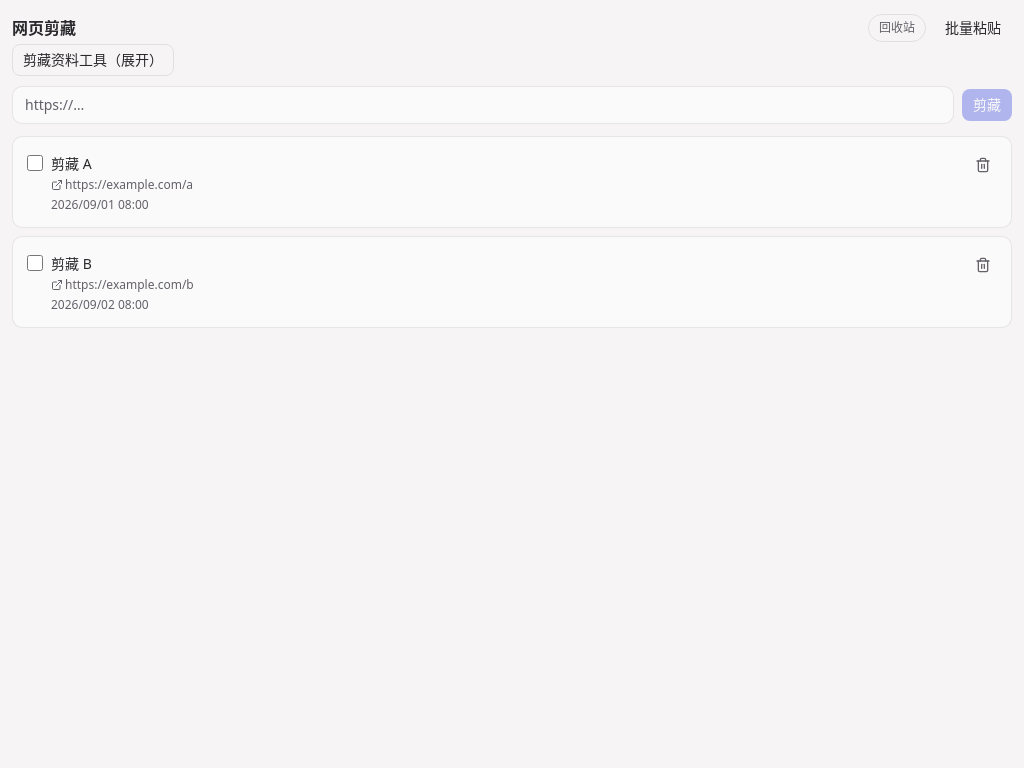
F081/F087 ClipsPage 多选批量操作 › F081: 勾选两条→批量编辑→预览请求携带两条 clip ref
The image size is (1024, 768).
Check: the button "剪藏 A" is shown, box [51, 154, 92, 174]
Click the checkbox named "选择剪藏：剪藏 A" at (35, 163), box [27, 155, 43, 171]
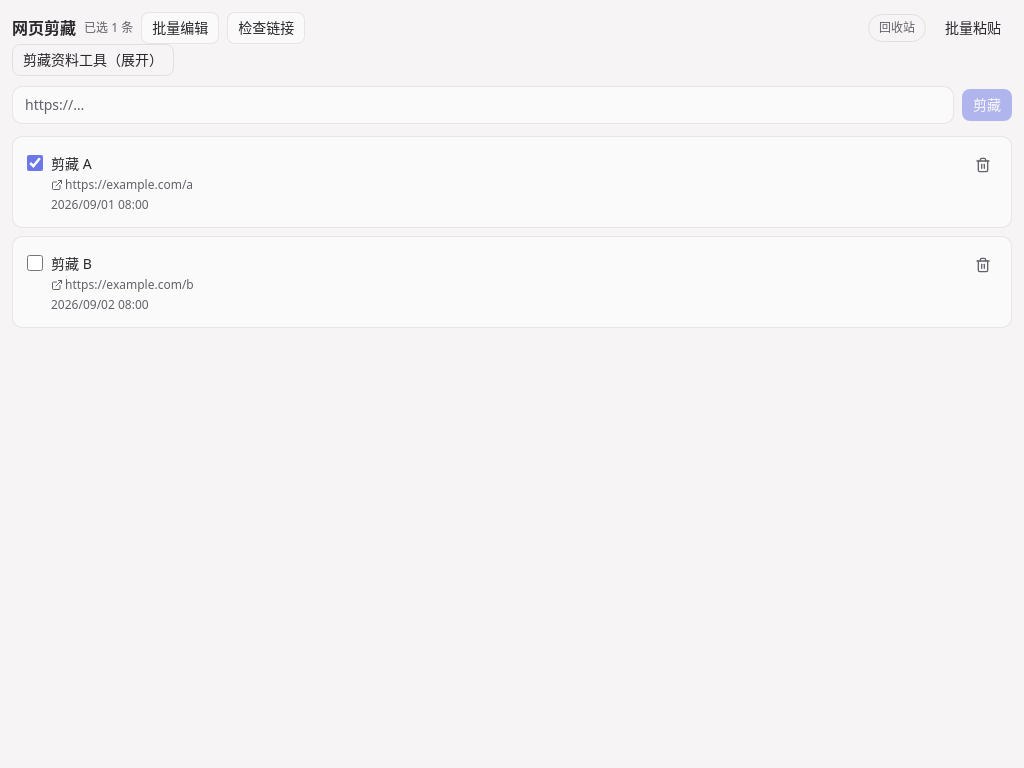
Click the checkbox named "选择剪藏：剪藏 B" at (35, 263), box [27, 255, 43, 271]
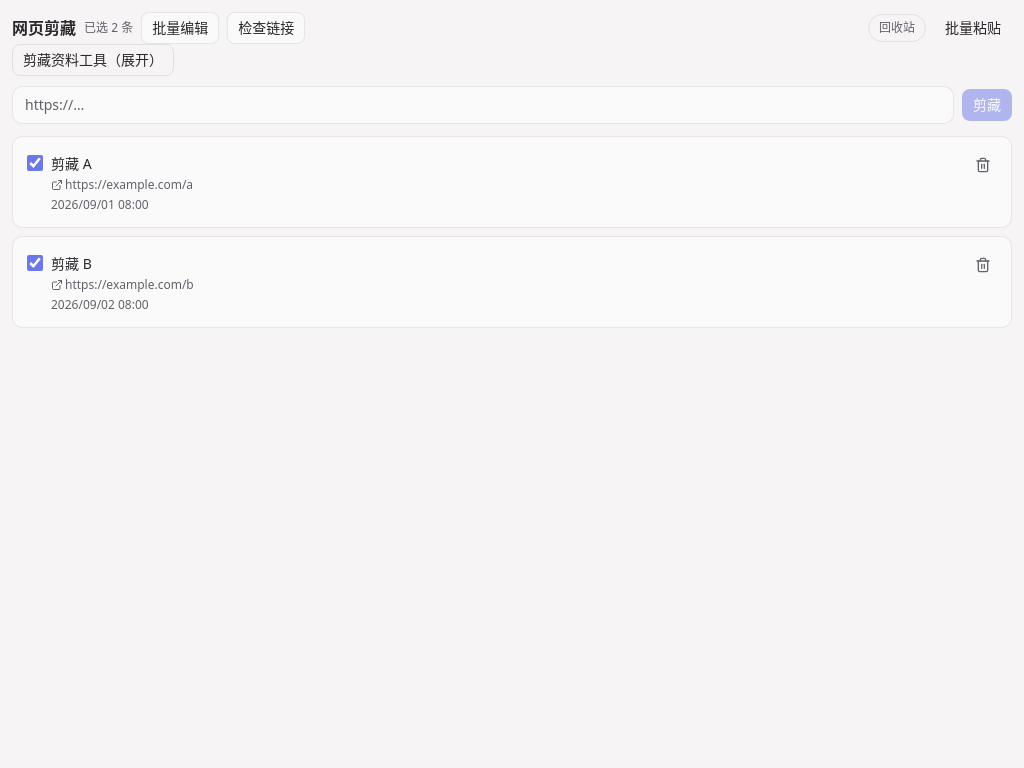
Check: the text "已选 2 条" is shown, box [84, 20, 133, 36]
Click the button "批量编辑" at (180, 28), box [141, 12, 219, 44]
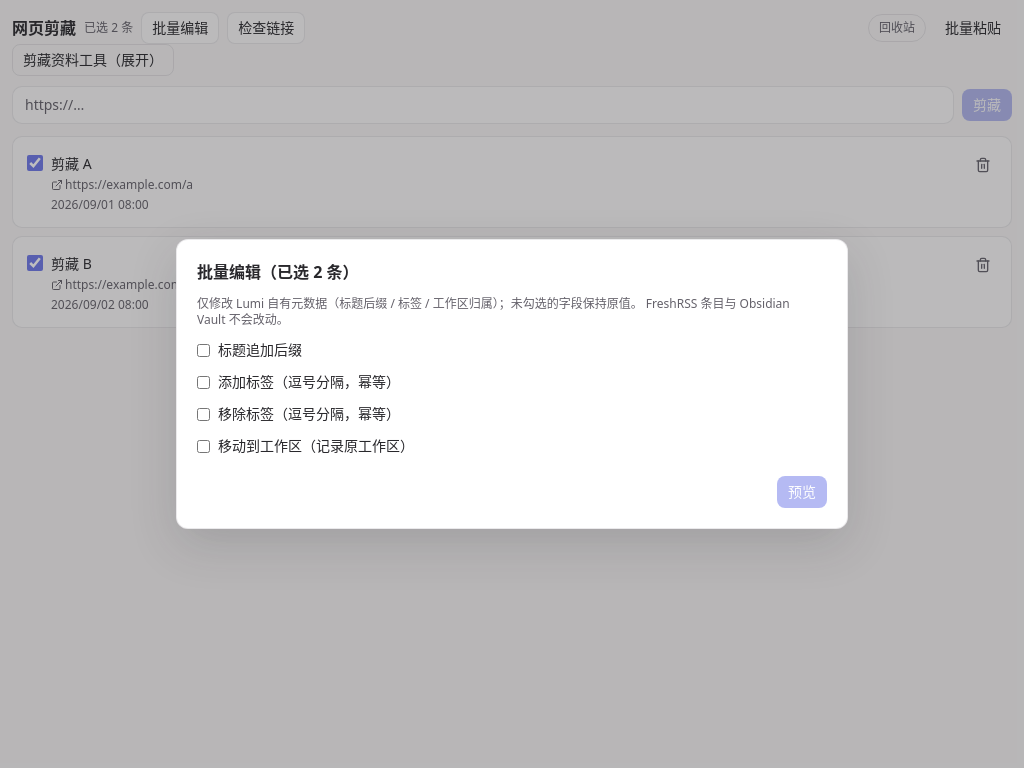
Click the checkbox named "勾选：标题追加后缀" at (204, 350), box [197, 344, 210, 357]
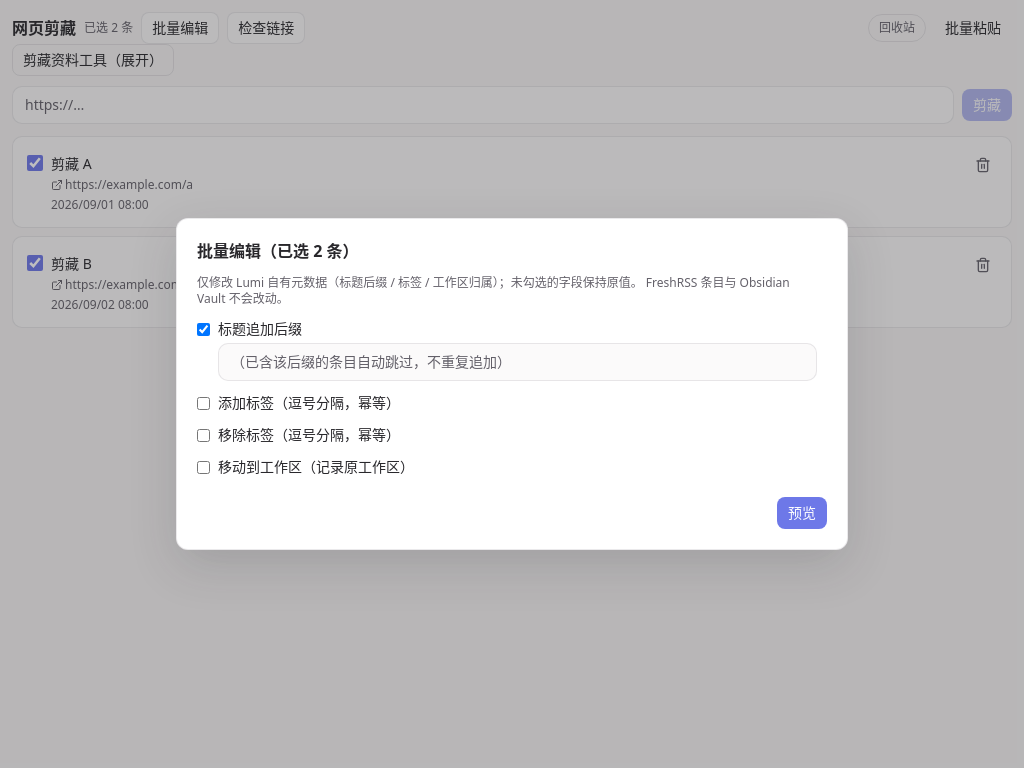
Type "【荐】" into the field named "标题后缀" at (518, 362), box [218, 343, 817, 381]
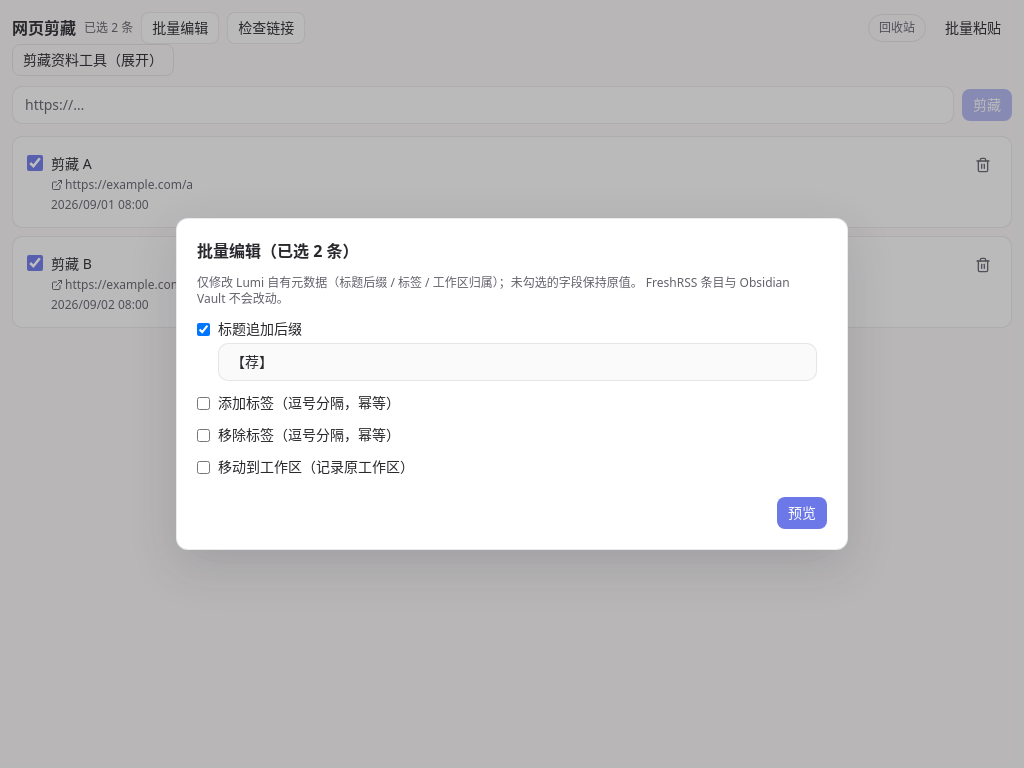
Click the button "预览" at (802, 513), box [777, 497, 827, 529]
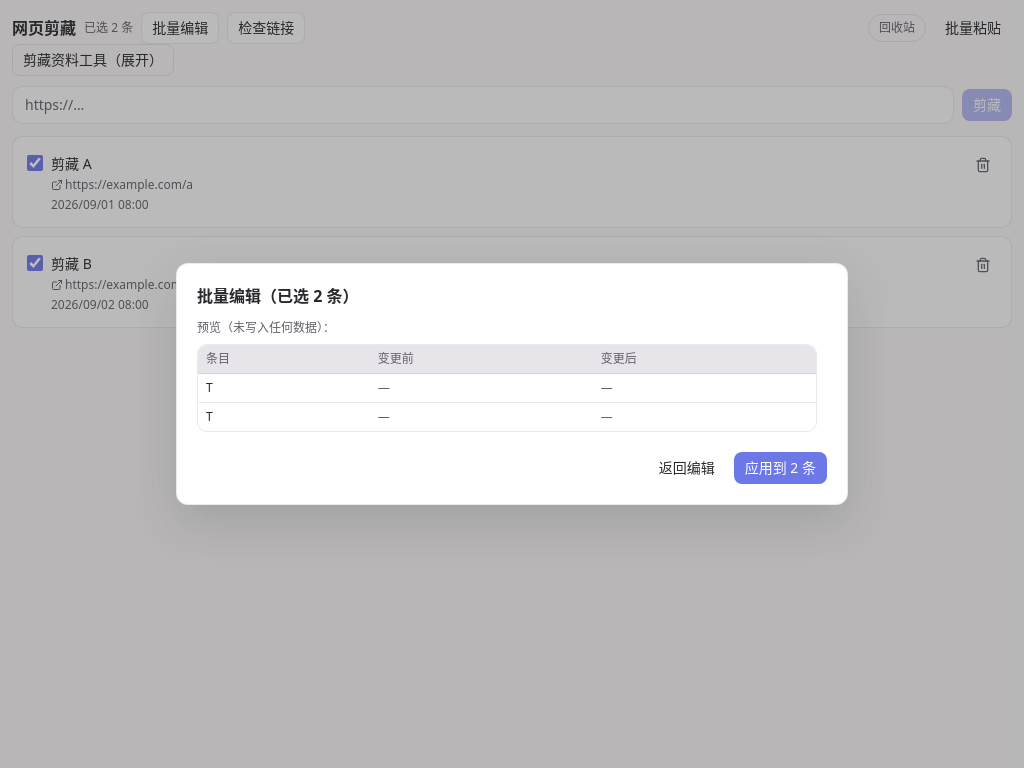
Check: the column heading "变更前" is shown, box [370, 345, 593, 374]
